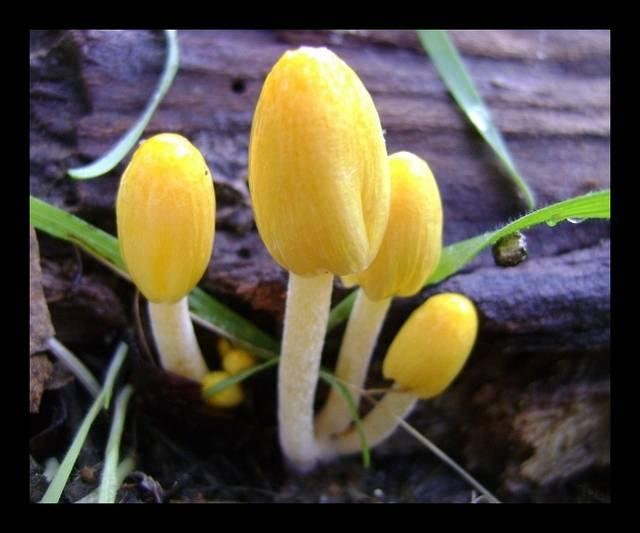Edible Mushroom: (246, 43, 391, 474), (315, 149, 443, 440), (114, 131, 217, 383)
